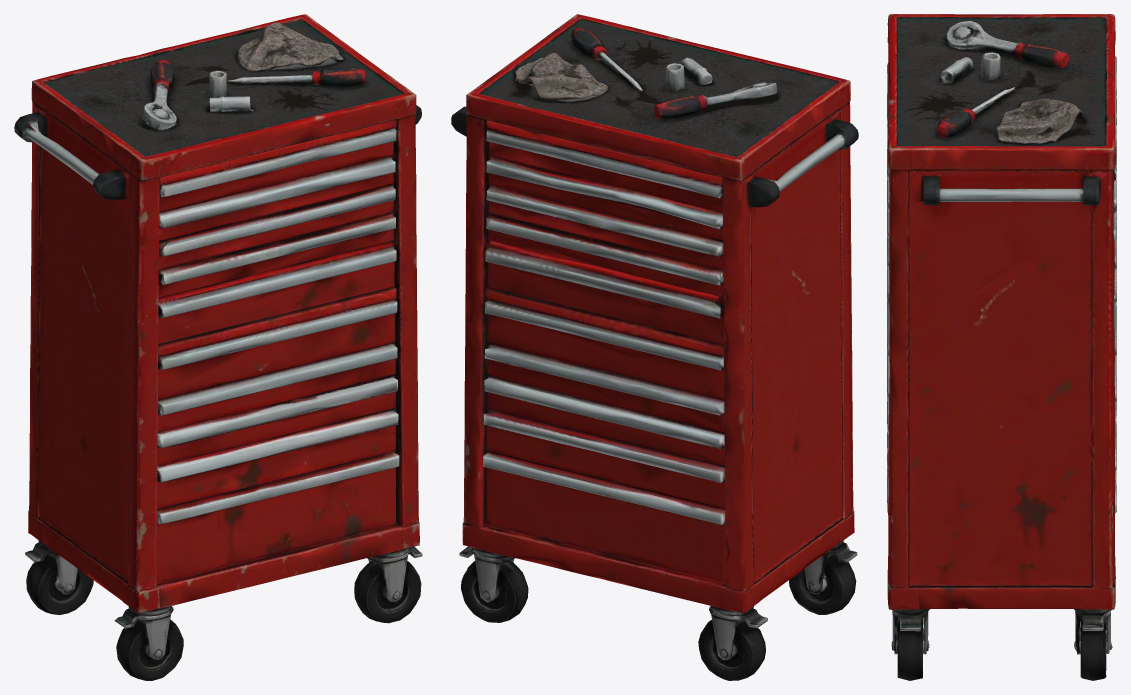
File: ws_toolchest.glb
3 views of the same model, side by side, from view 1: azimuth 30°, elevation 25°; view 2: azimuth 150°, elevation 25°; view 3: azimuth 270°, elevation 25° (orthographic).
Size of the model in its own units: 0.6002 by 0.9793 by 0.3662.
1 material, 1 textured.
